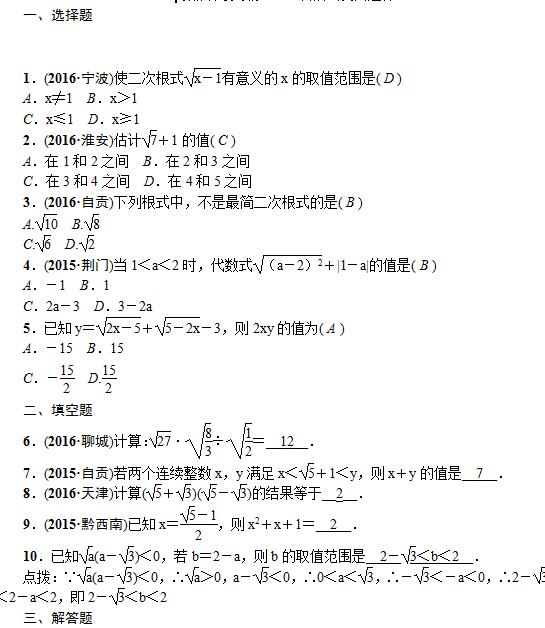division: (172, 519, 217, 531), (197, 435, 217, 448), (60, 372, 77, 385), (99, 373, 119, 383), (241, 439, 252, 446)
sqrt: (254, 248, 331, 281), (183, 421, 215, 461), (227, 420, 256, 461), (184, 63, 225, 91), (94, 314, 143, 337), (156, 315, 202, 339), (34, 207, 60, 232), (252, 563, 273, 589), (149, 428, 172, 451), (140, 128, 164, 150), (79, 233, 106, 252), (117, 542, 136, 567), (295, 462, 318, 482), (34, 233, 58, 252), (356, 565, 375, 589), (232, 481, 251, 502), (108, 584, 125, 607), (175, 482, 193, 503), (180, 504, 197, 526), (201, 483, 220, 502), (147, 480, 162, 503), (399, 544, 417, 563), (185, 564, 199, 587), (81, 542, 93, 568), (87, 212, 98, 236)
square: (314, 256, 325, 270), (253, 517, 262, 528)
